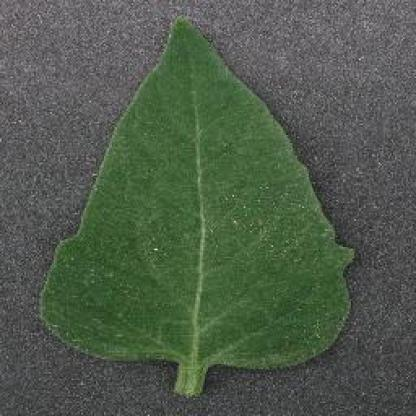good leaf: (66, 8, 353, 393)
